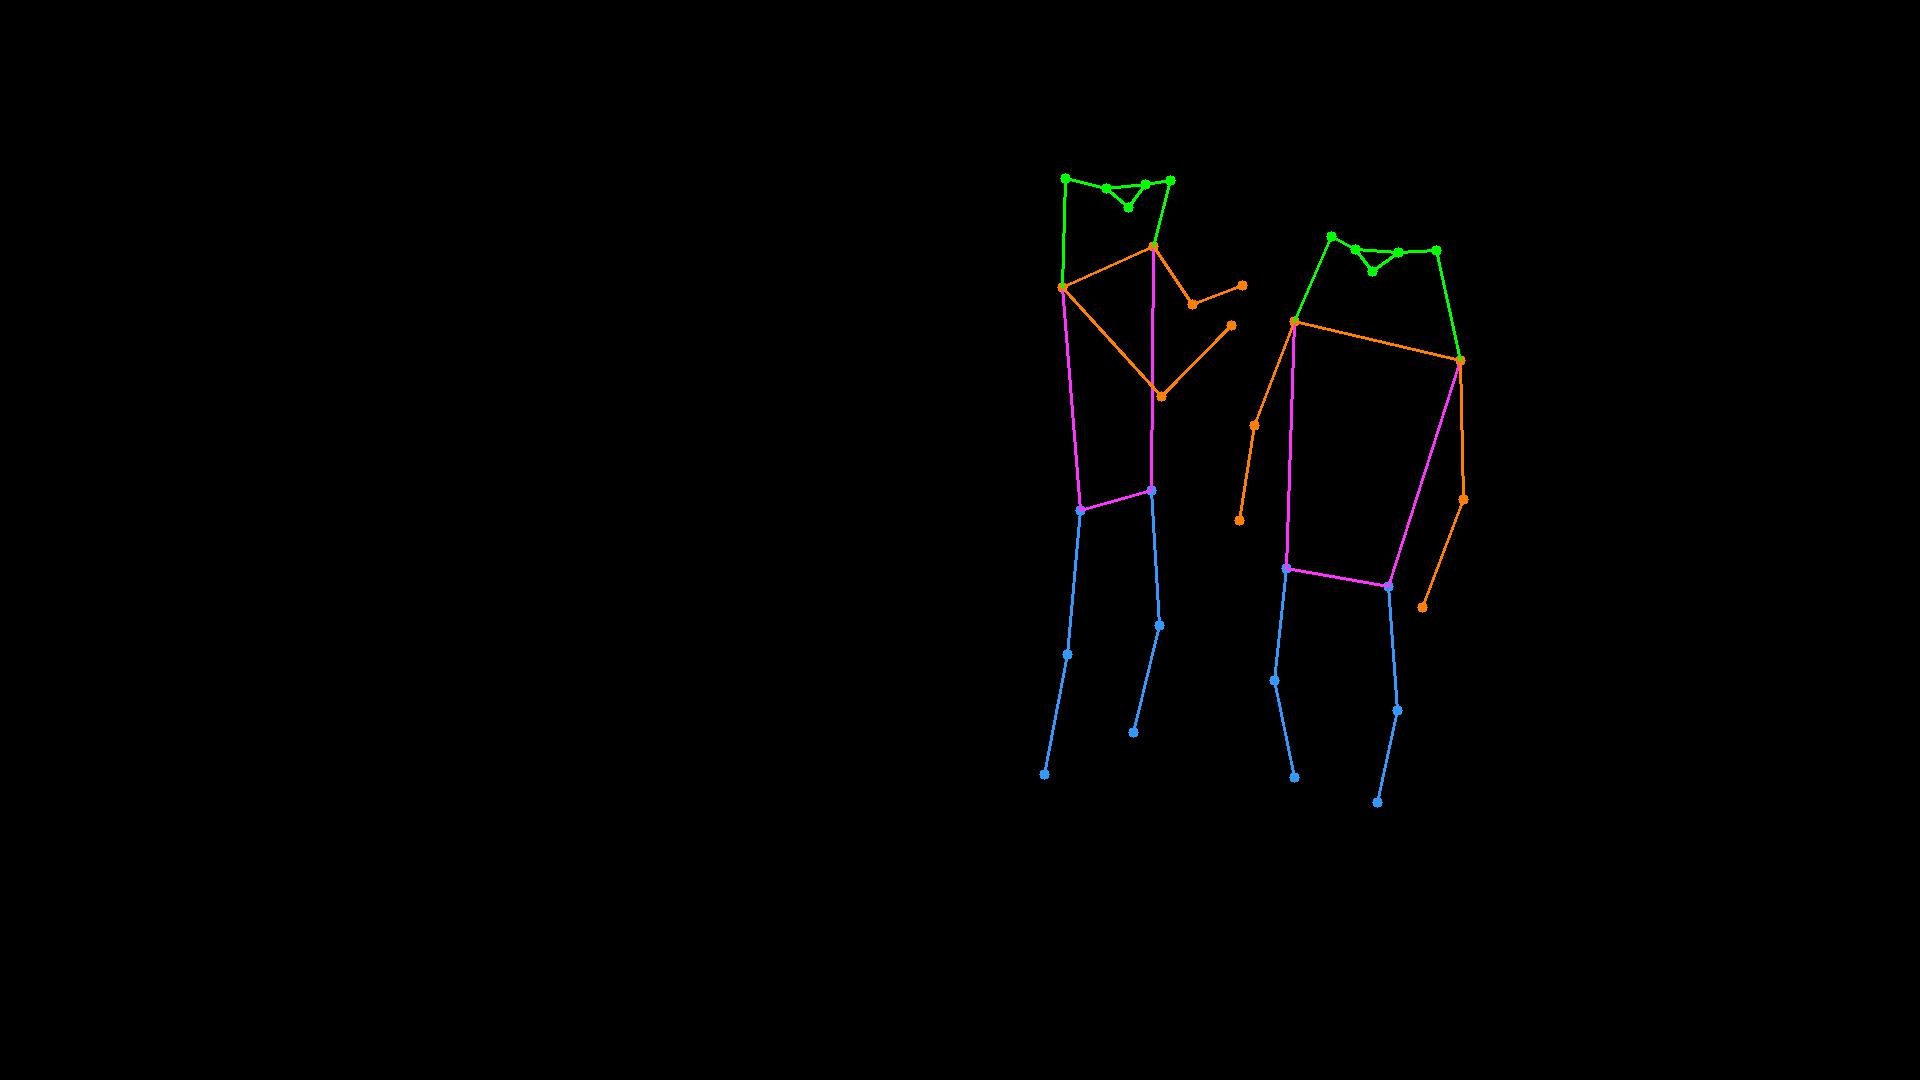normal: (985, 146, 1526, 856)
